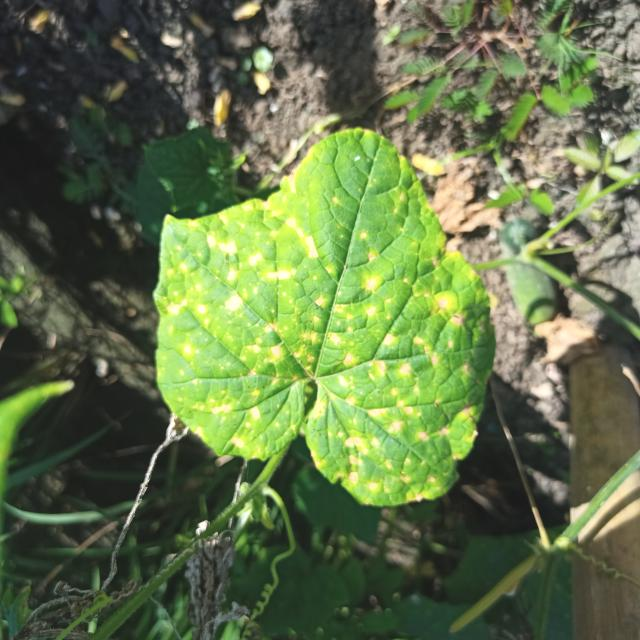disease_cucumber: (163, 148, 484, 499)
